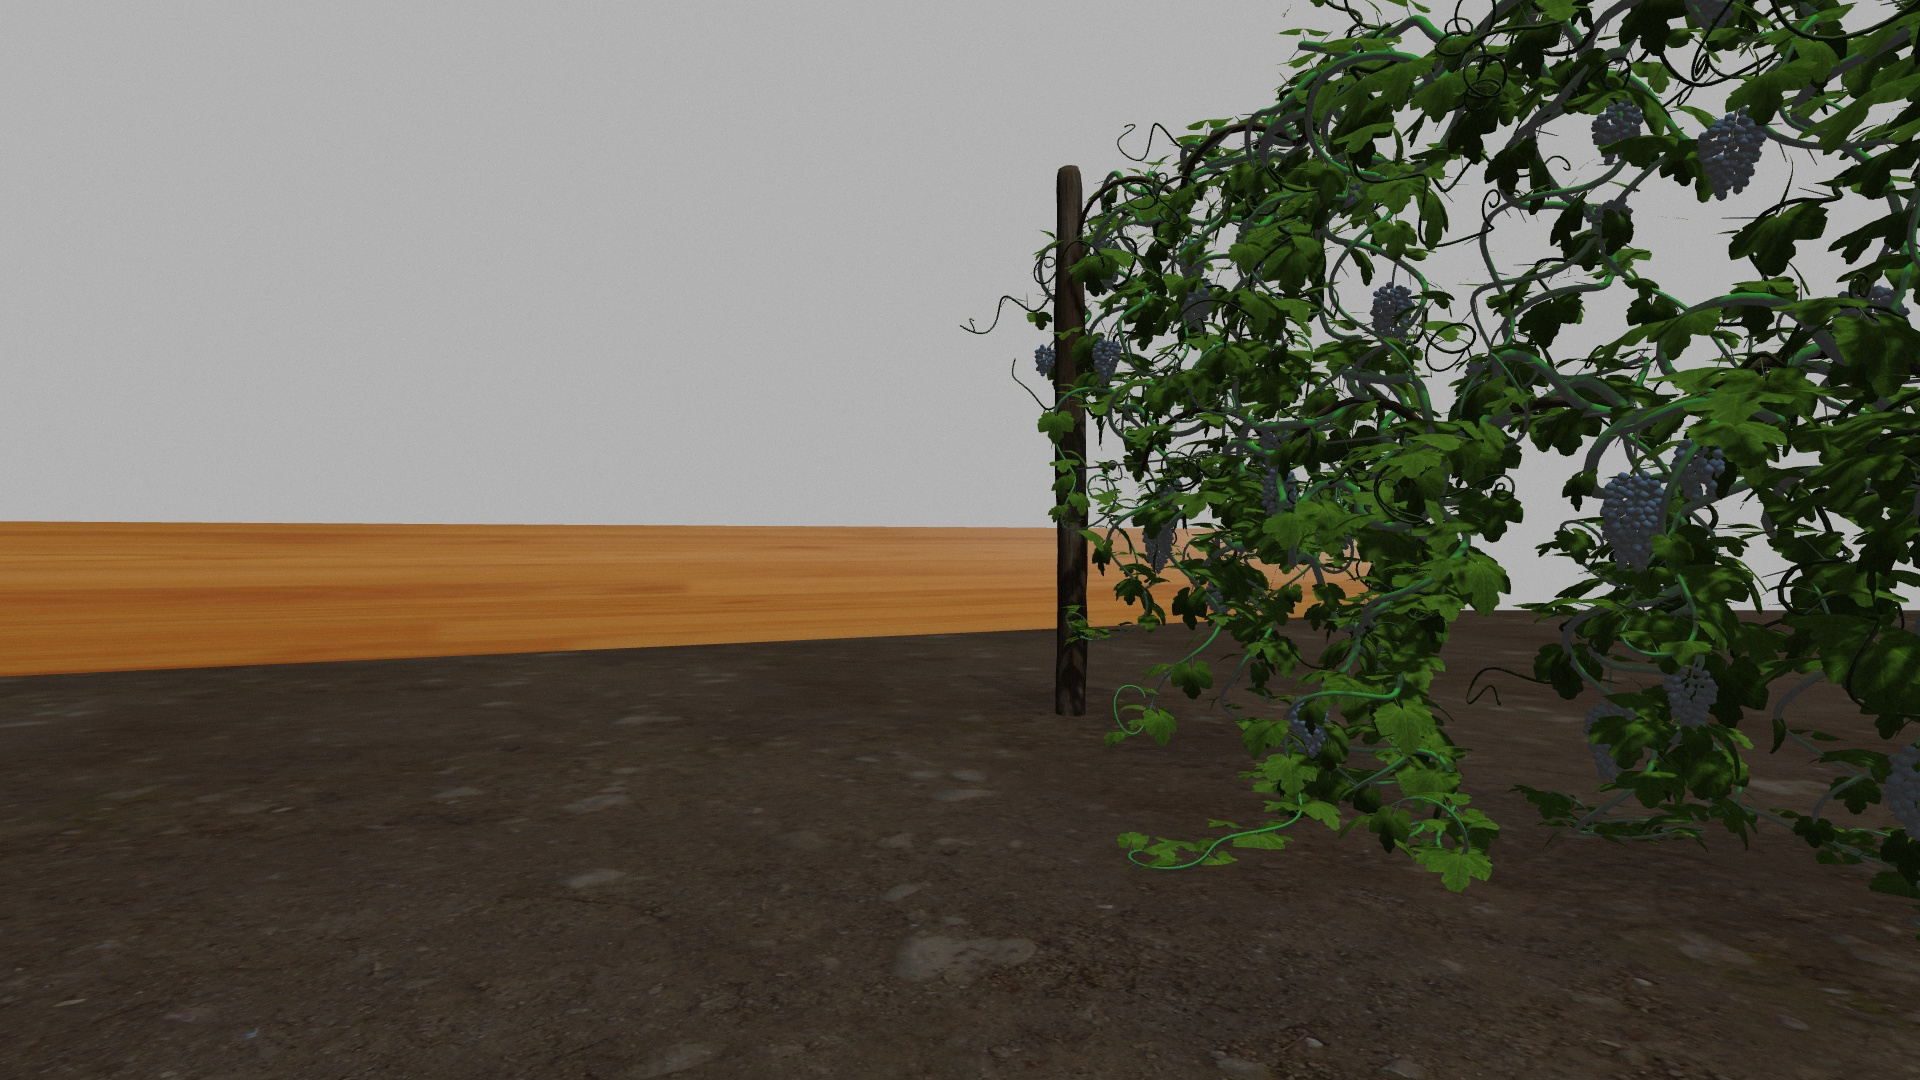grape: (1600, 473, 1665, 574), (1698, 107, 1764, 202), (1663, 665, 1720, 735), (1581, 702, 1627, 783), (1669, 442, 1725, 504), (1590, 99, 1643, 160), (1369, 281, 1415, 345), (1884, 749, 1915, 837), (1290, 703, 1331, 757), (1139, 524, 1174, 574), (1091, 338, 1124, 385), (1182, 289, 1211, 326), (1033, 344, 1059, 380)
